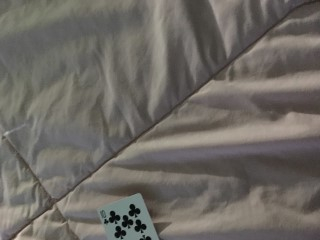TenOfClubs: (96, 193, 159, 240)
